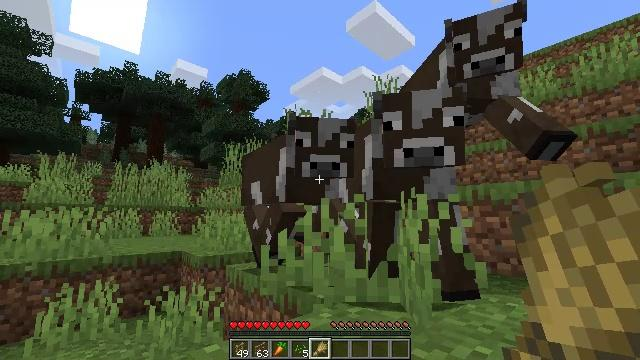cow: (403, 0, 577, 161), (357, 93, 484, 300), (244, 117, 356, 258)
